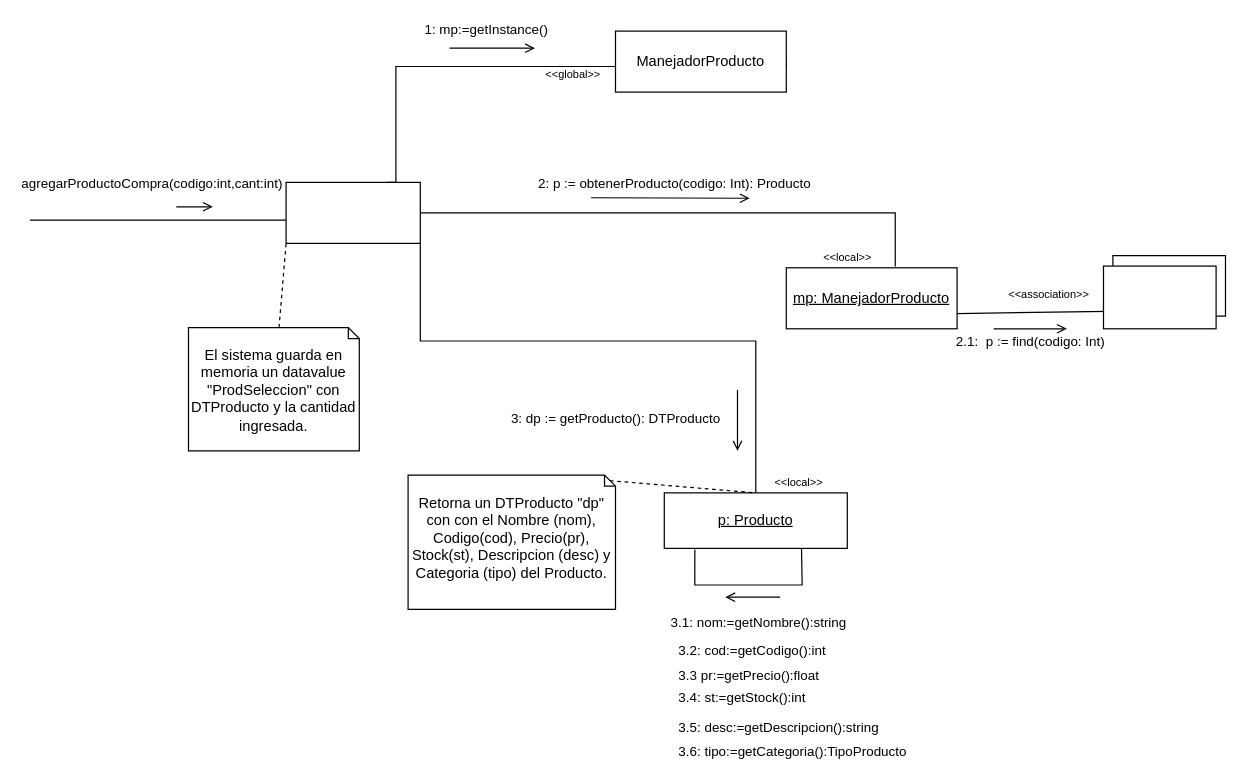
The diagram is 1248 pixels wide and 781 high, and some of its shapes have lost their labels. Each missing label, with the centre of its shape:
": CtrlCompra" goes at [352,212].
": Producto" goes at [1159,297].
